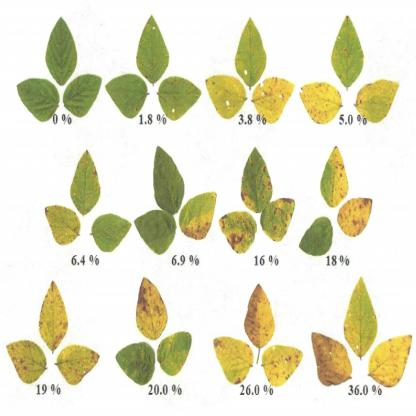soybean leaf: (131, 10, 172, 93), (232, 12, 271, 97), (328, 11, 367, 94), (41, 13, 82, 88), (66, 142, 104, 221), (12, 72, 63, 129), (151, 140, 187, 218), (155, 70, 204, 125), (103, 72, 152, 126), (135, 204, 177, 259), (62, 71, 105, 122), (88, 209, 133, 257), (113, 339, 157, 388), (153, 329, 194, 379), (298, 214, 336, 263)
